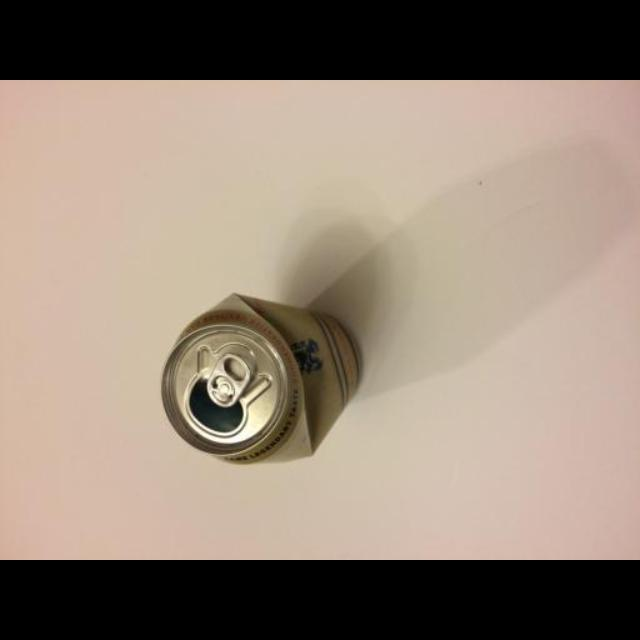aba de lata: (208, 349, 252, 409)
lata: (160, 290, 362, 466)
